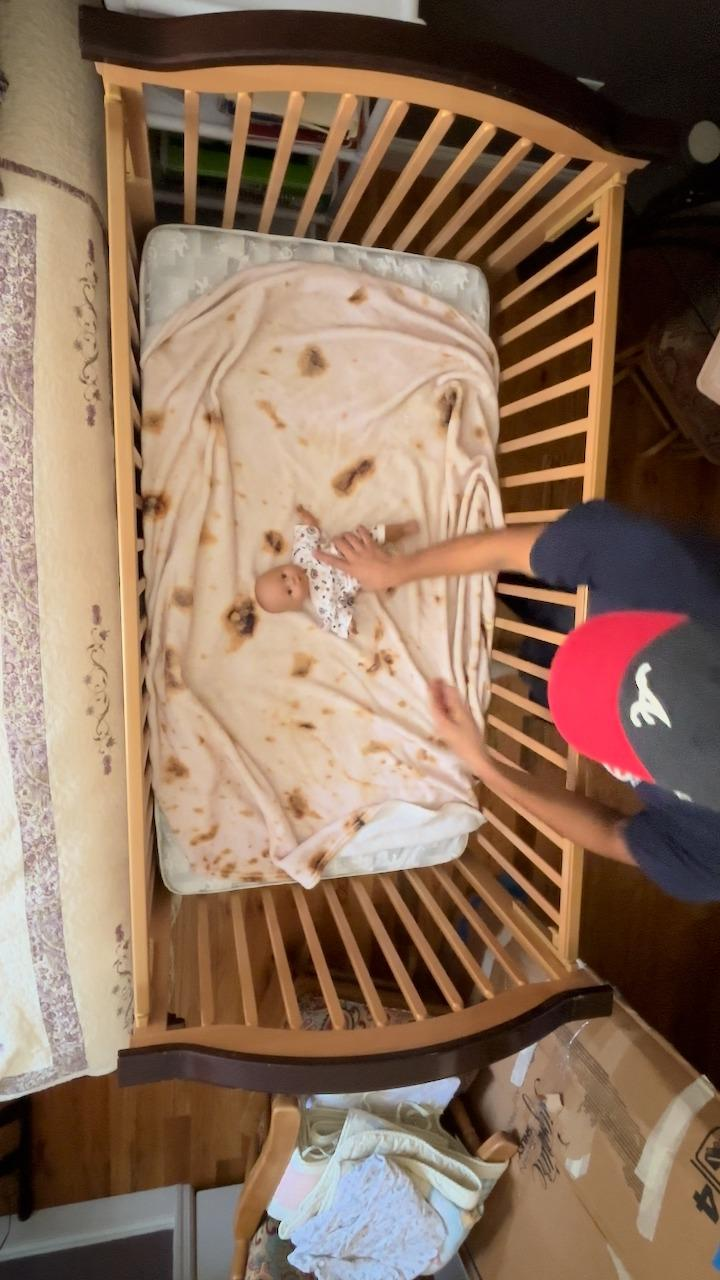baby: (244, 505, 426, 638)
